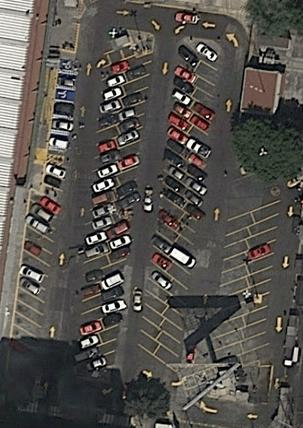parkingspot: (74, 43, 137, 378), (137, 39, 203, 357), (153, 59, 219, 374), (97, 50, 155, 370), (8, 187, 61, 364), (211, 211, 256, 365), (239, 199, 283, 356), (43, 162, 68, 193), (47, 132, 71, 151), (53, 101, 75, 119), (50, 117, 73, 134), (55, 87, 77, 103), (57, 73, 79, 88)
